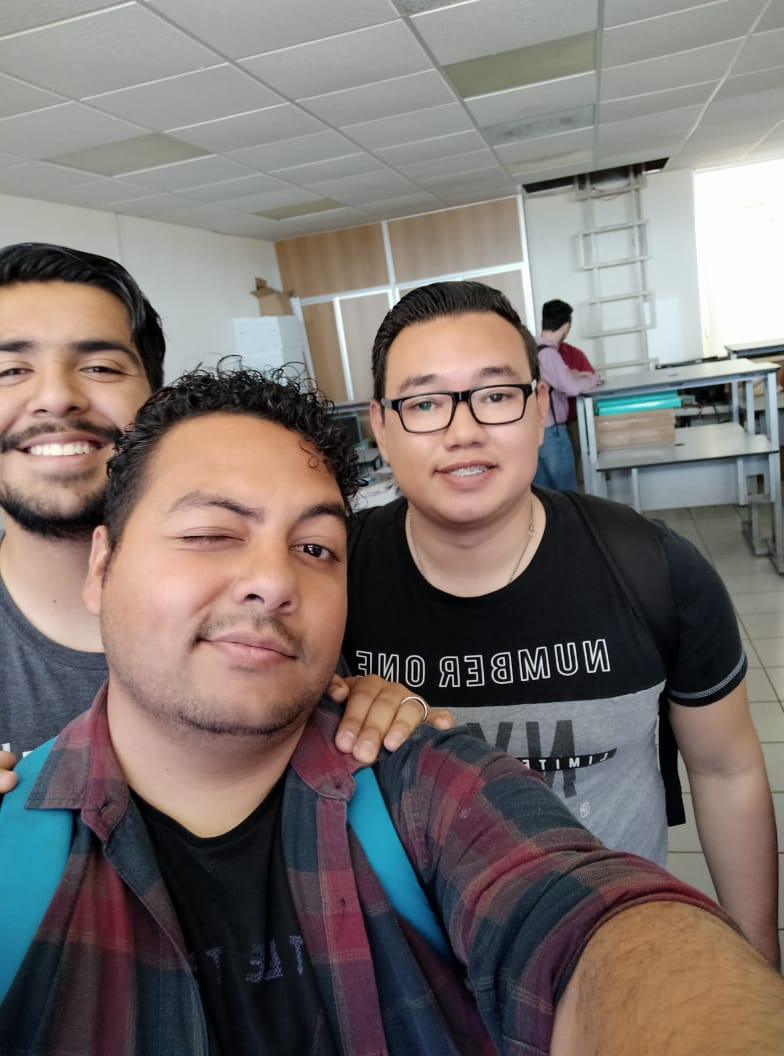Yoshi: (110, 383, 363, 790)
